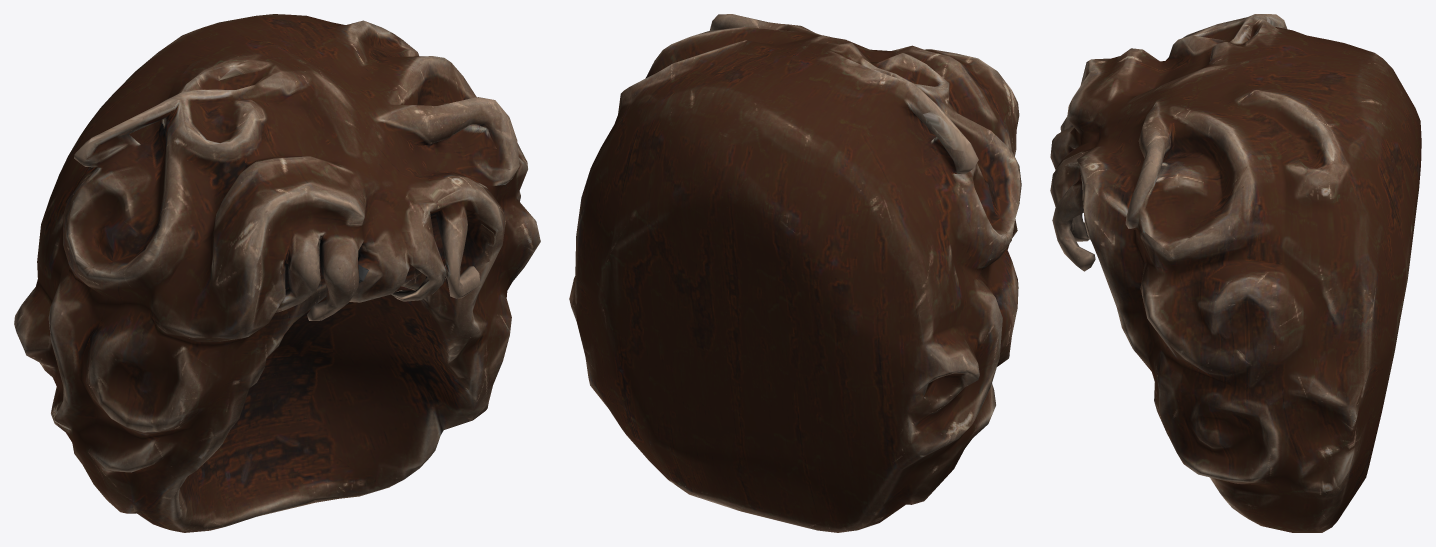
File: Marionette_hair.fbx
The picture shows the model from 3 angles, left to right: view 1: azimuth 30°, elevation 25°; view 2: azimuth 150°, elevation 25°; view 3: azimuth 270°, elevation 25°; orthographic projection. The views are drawn at different scales.
Parts seen in each view (by area): view 1: Marionette_HAIR; view 2: Marionette_HAIR; view 3: Marionette_HAIR.
Boxes of the visible parts, bbox=[...] form: Marionette_HAIR: bbox=[14, 14, 540, 532]; Marionette_HAIR: bbox=[569, 14, 1021, 532]; Marionette_HAIR: bbox=[1050, 14, 1421, 532].
Bounding box in the file's own units: 0.4013 × 0.4166 × 0.3159.
